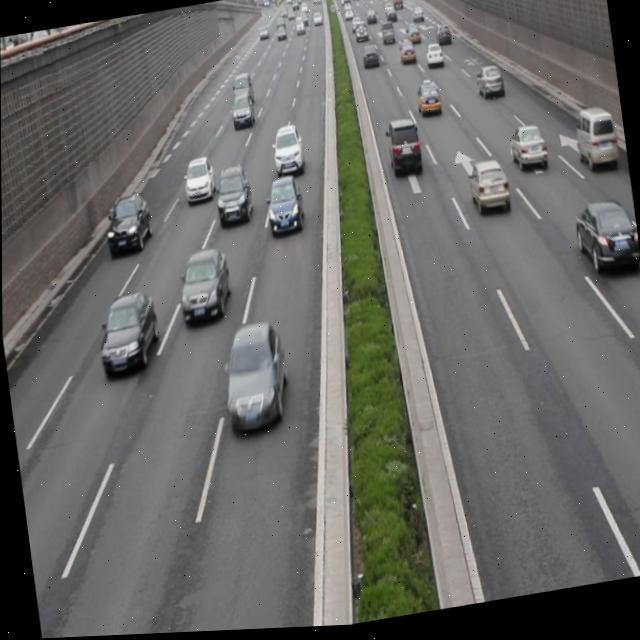car: (216, 322, 292, 438), (570, 199, 640, 287), (94, 296, 157, 368), (176, 248, 233, 327), (103, 194, 156, 257), (463, 160, 511, 225), (212, 165, 255, 231), (263, 175, 304, 242), (383, 119, 422, 184), (180, 153, 218, 211), (267, 125, 304, 177), (508, 128, 546, 176), (474, 65, 502, 104), (413, 80, 438, 118)
truck: (569, 107, 616, 177)
